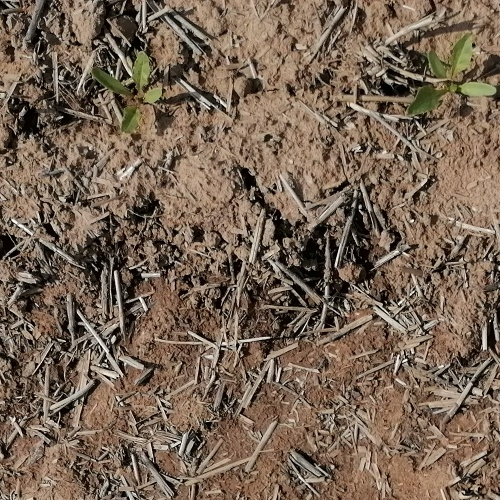beet: (403, 28, 500, 114), (89, 51, 163, 131)
